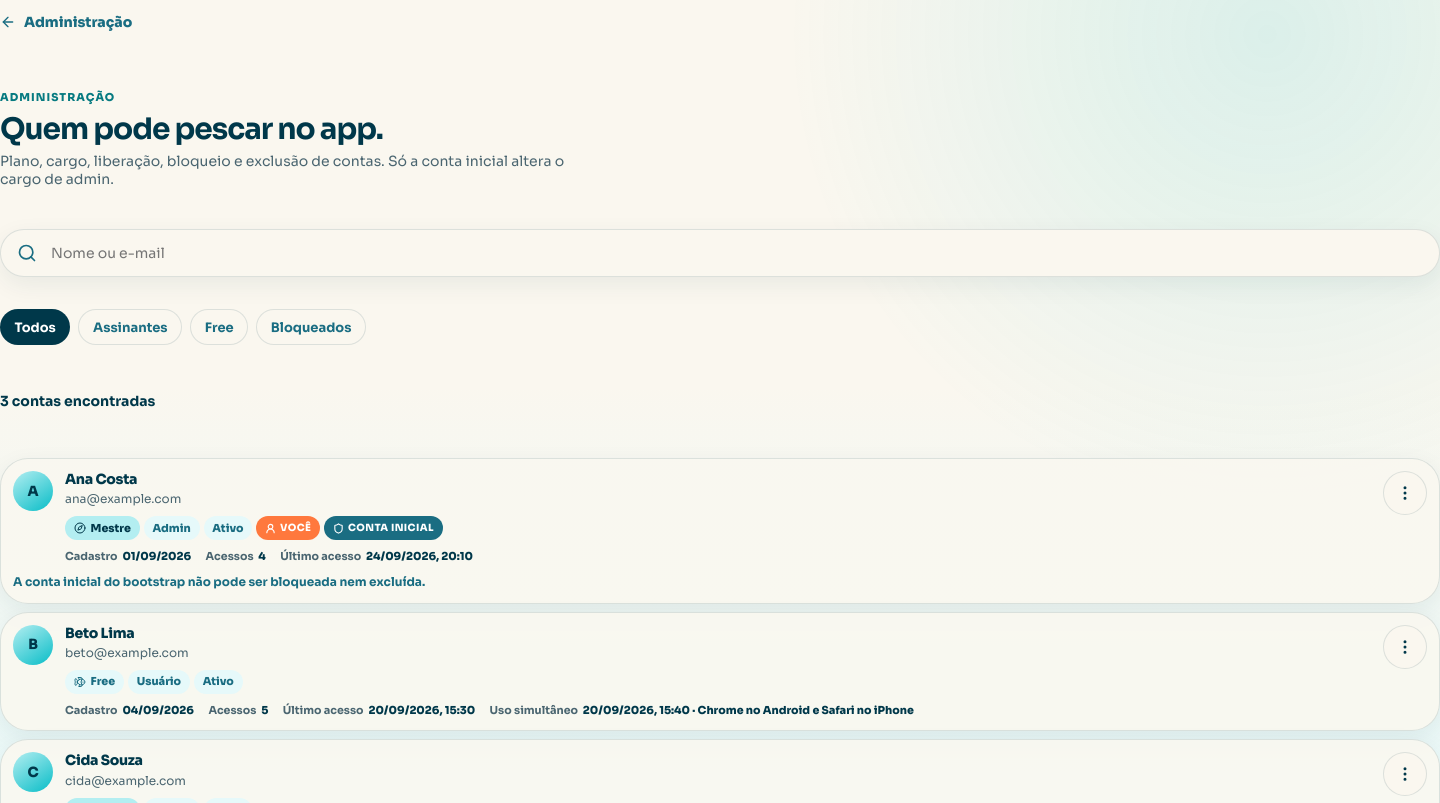
it: AdminUsersPage › cancela a mudança de plano sem salvar
Expected: the text "Beto Lima" is shown, left=65, top=624, right=134, bottom=642
Click the button named "Ações da conta de Beto Lima" at (1405, 647), box left=1383, top=625, right=1427, bottom=669
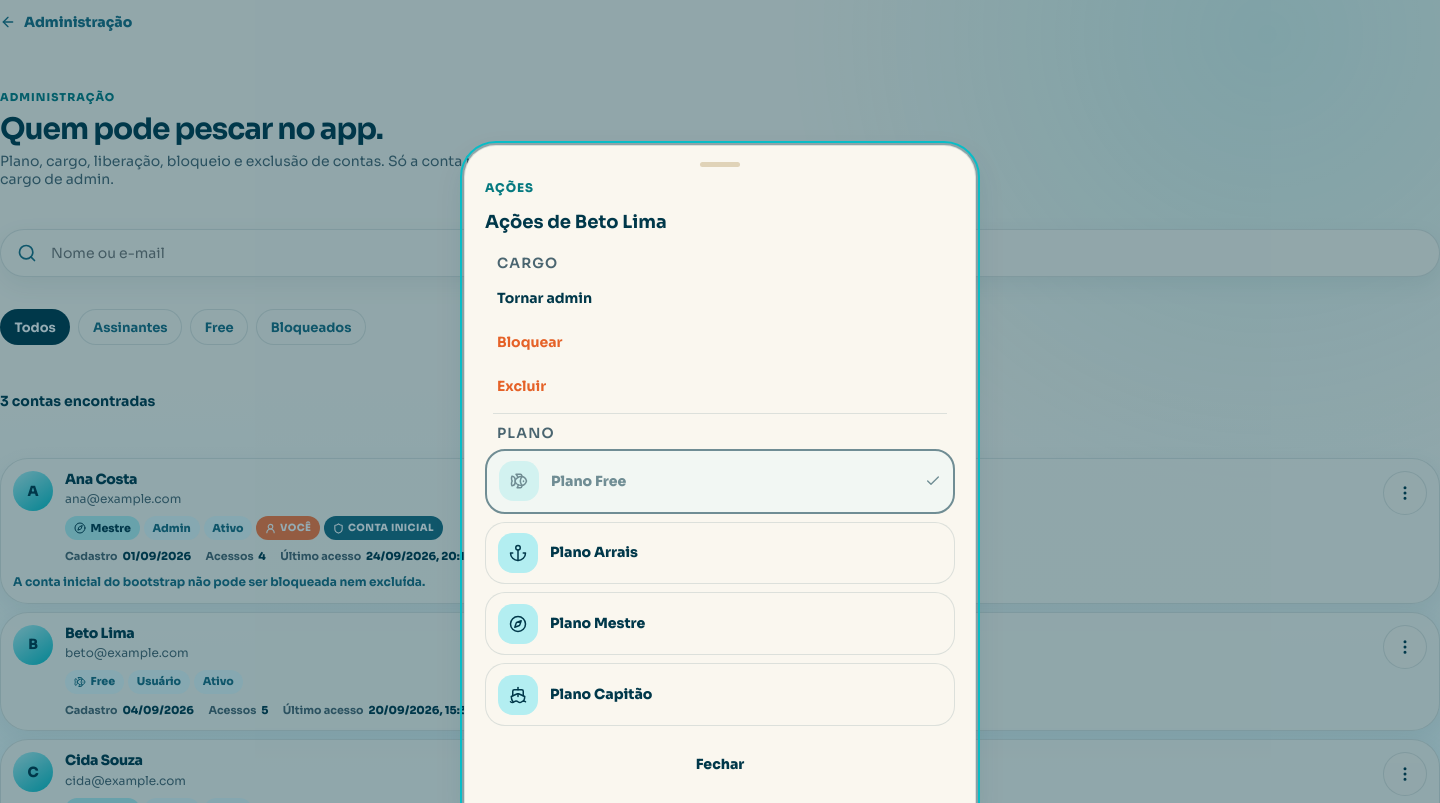
Click the menu item "Plano Mestre" at (518, 624), box left=485, top=592, right=955, bottom=655
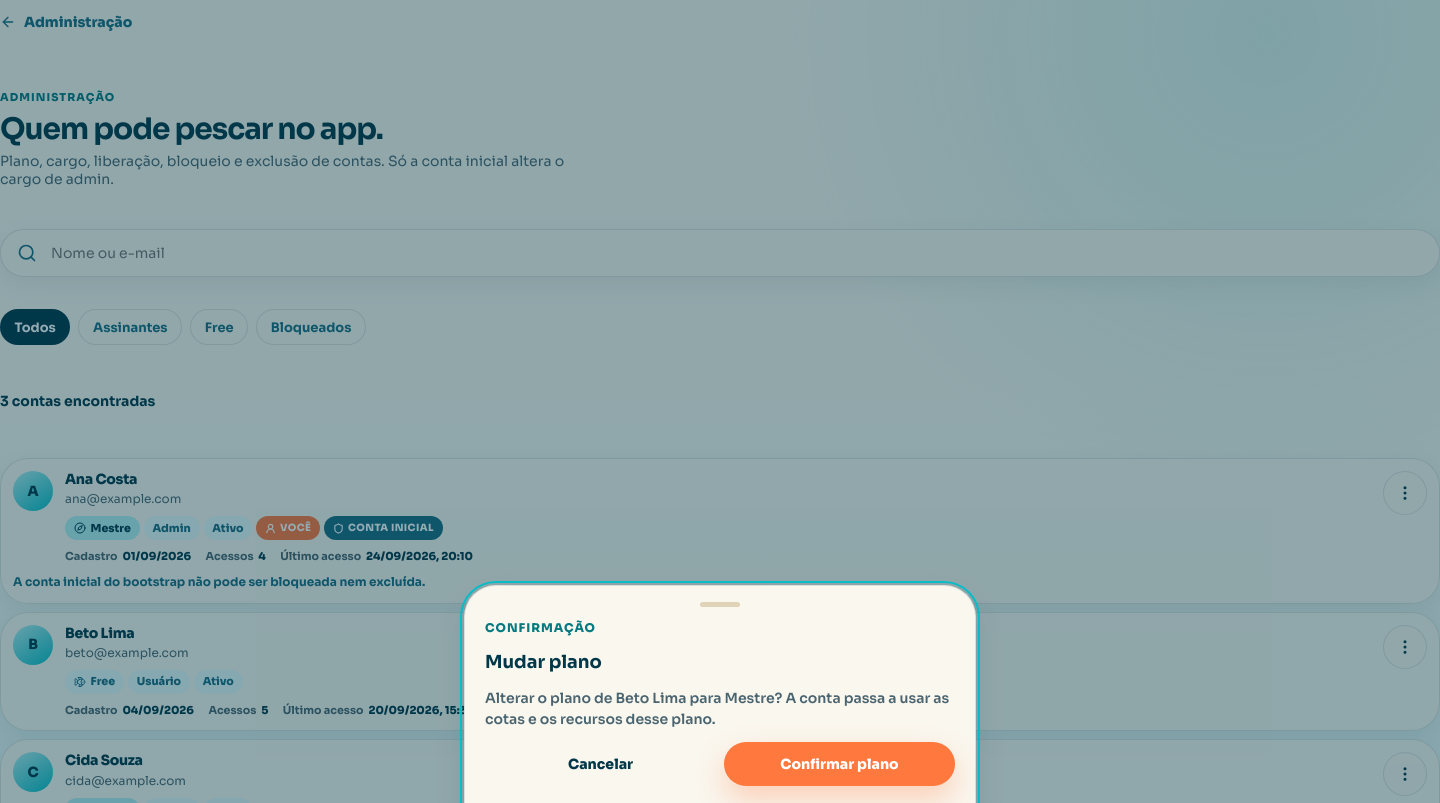
Click the button "Cancelar" at (600, 764), box left=485, top=742, right=716, bottom=786
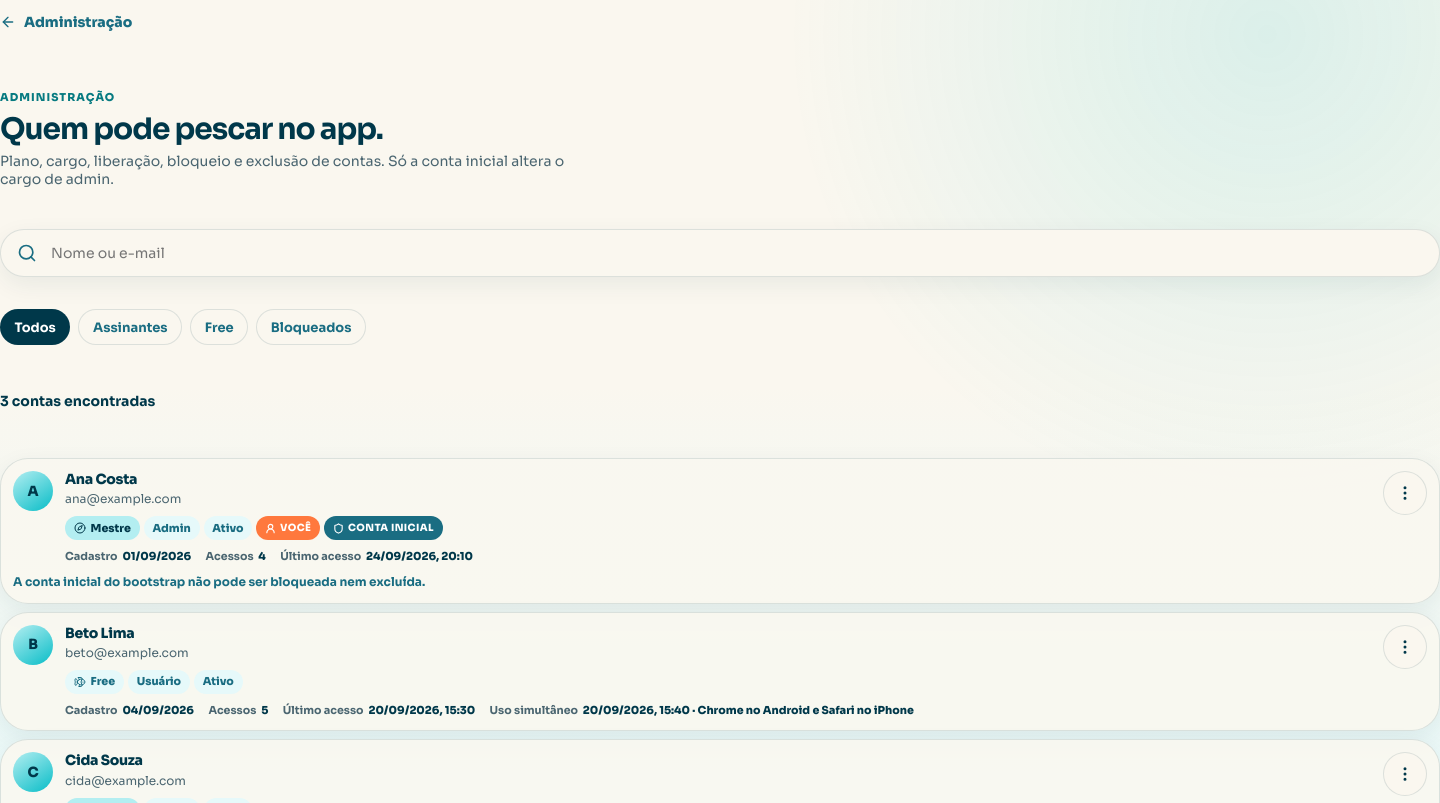
Expected: the heading "Mudar plano" is gone
